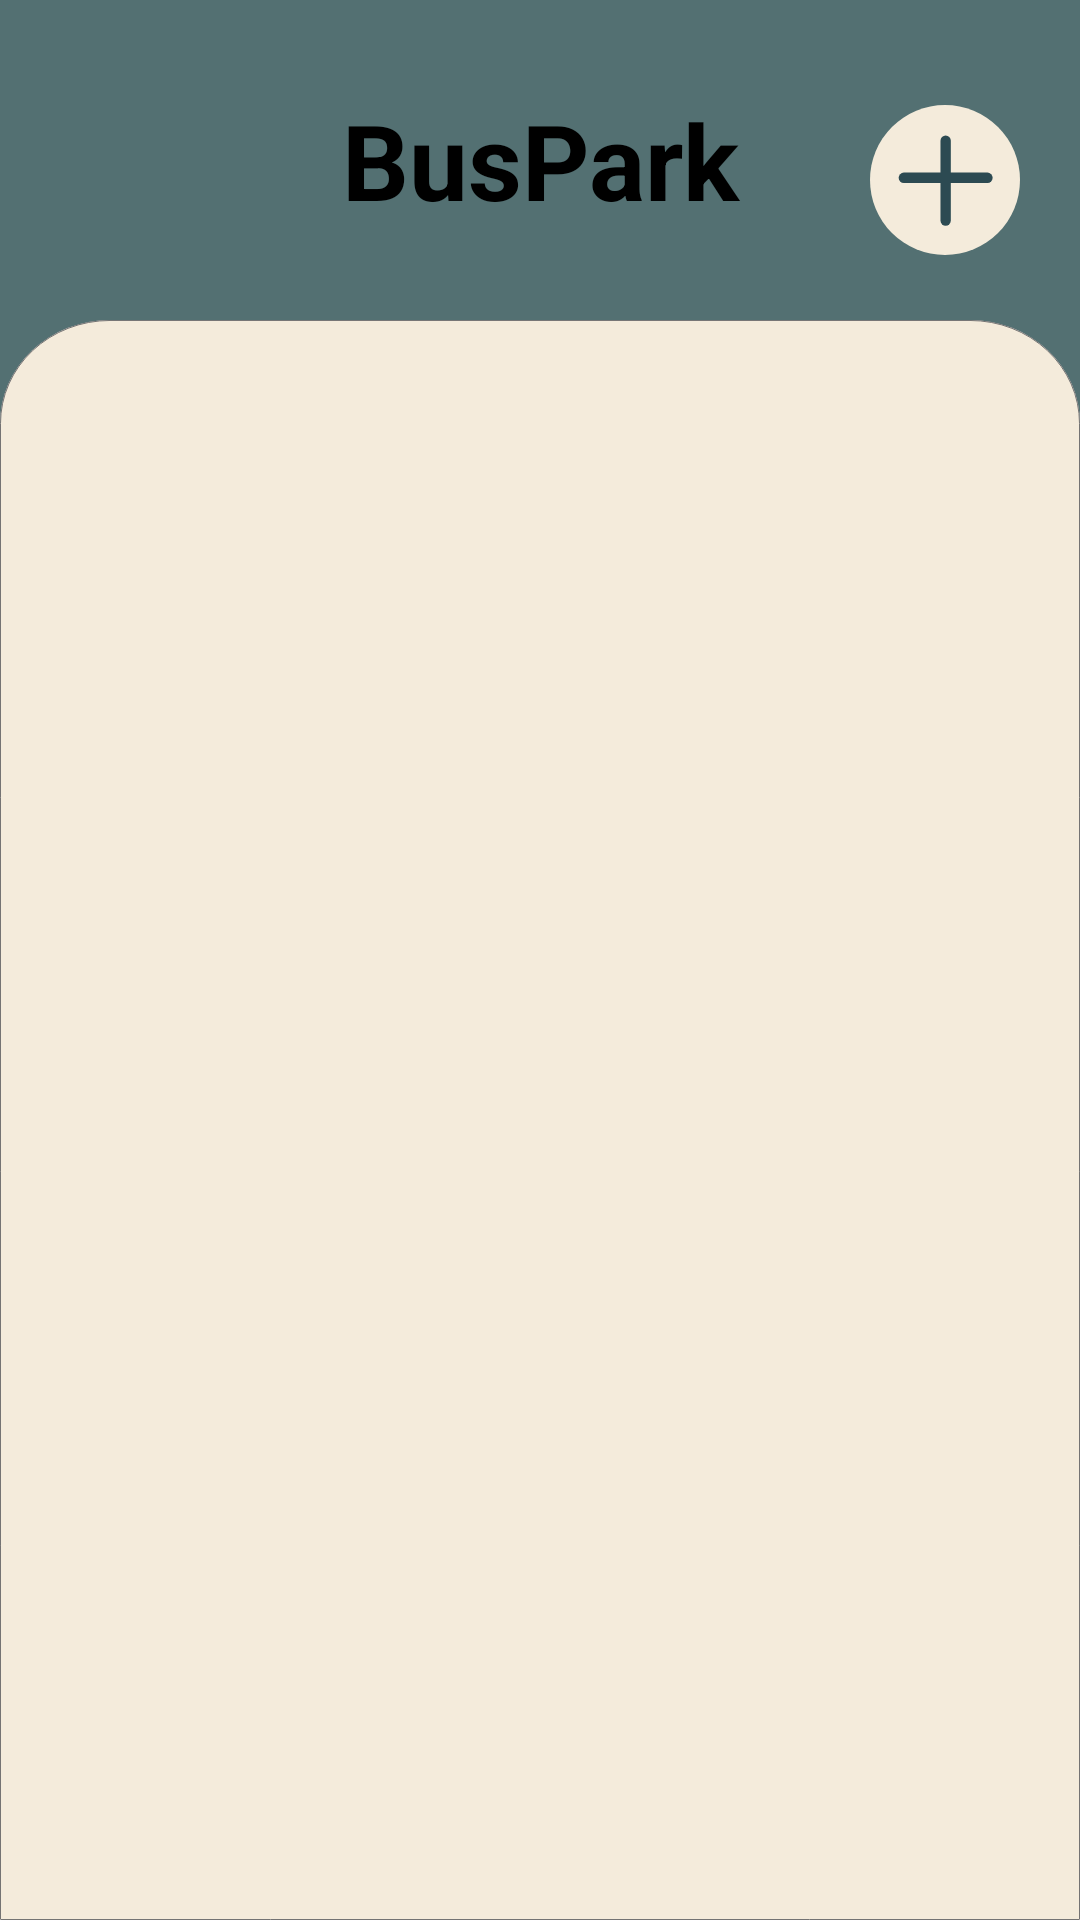

Where to tap for icons on this 1080×1920 app screen, as (x=x, y=y):
add: (x=945, y=180)
